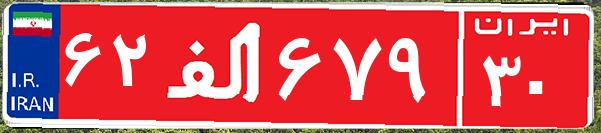0: (525, 38, 570, 115)
2: (110, 28, 158, 105)
3: (475, 38, 525, 113)
6: (273, 28, 330, 110), (57, 26, 110, 107)
7: (330, 28, 385, 110)
9: (385, 28, 445, 110)
الف: (158, 15, 273, 115)
